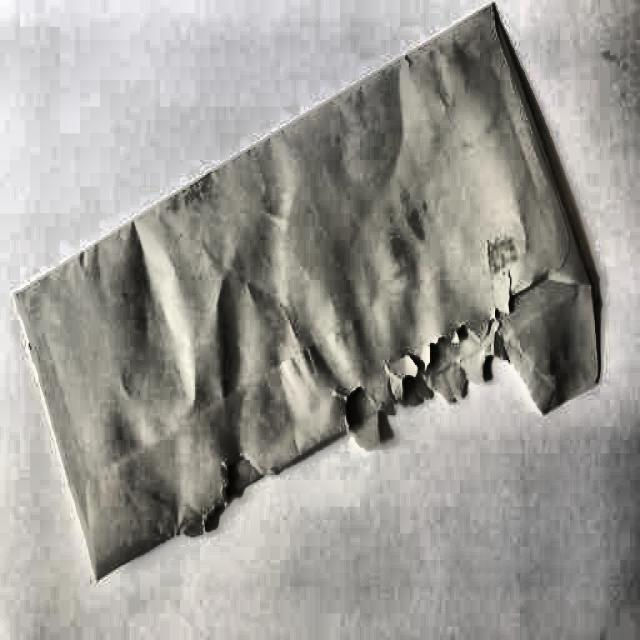paper: (2, 0, 618, 581)
